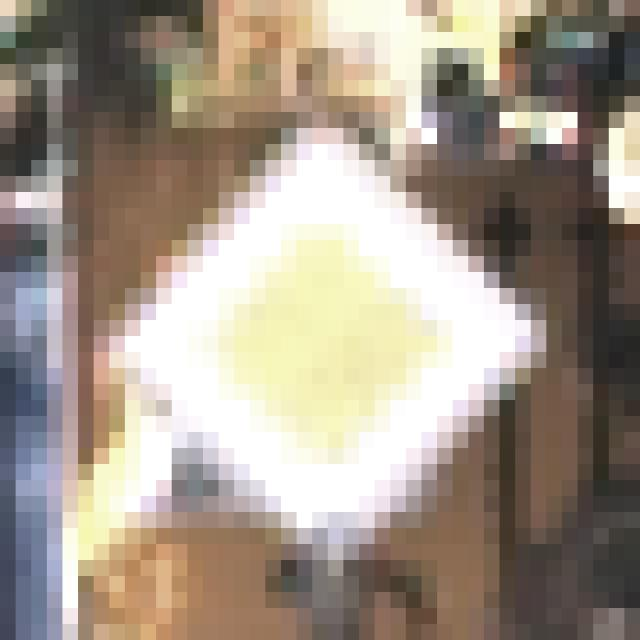Main Road: (79, 97, 563, 561)
